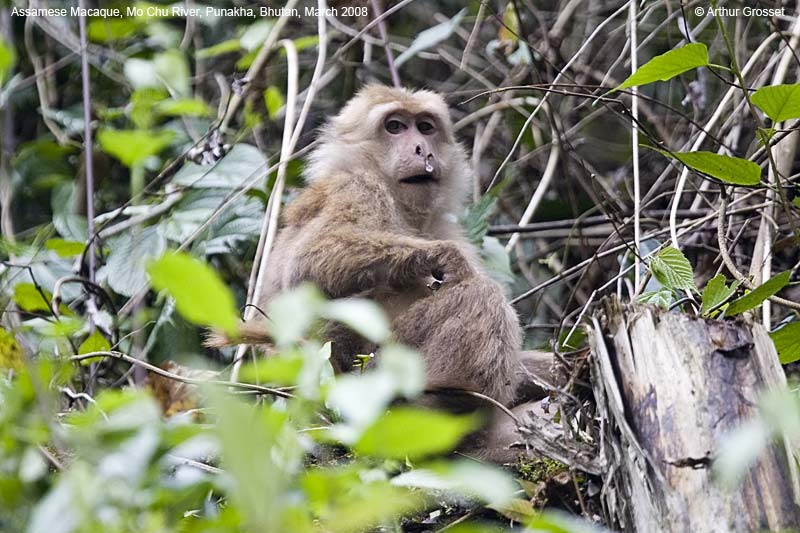monkey: (221, 86, 550, 422)
